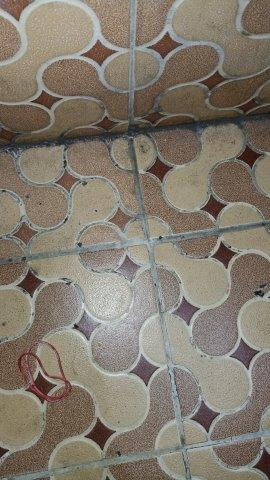karet: (18, 341, 72, 403)
